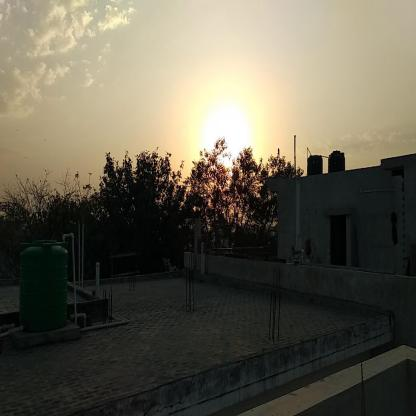other: (189, 84, 255, 190)
